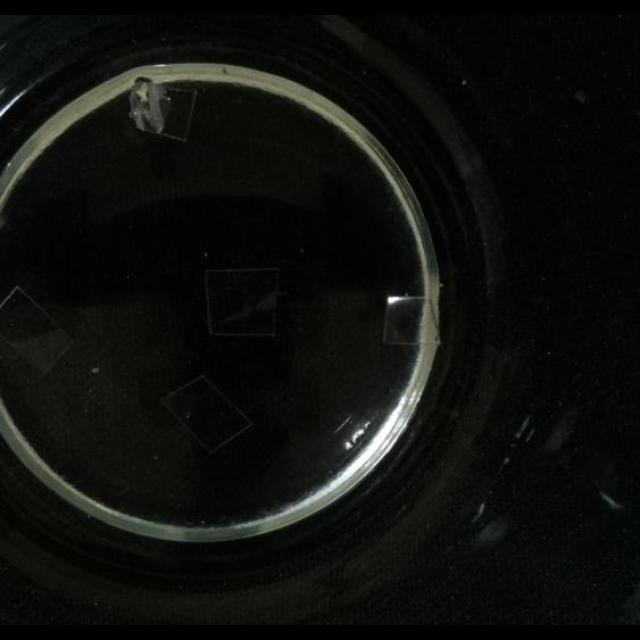Film: (159, 372, 255, 454), (1, 286, 74, 376), (202, 266, 284, 338), (125, 77, 199, 136), (378, 294, 434, 348)
